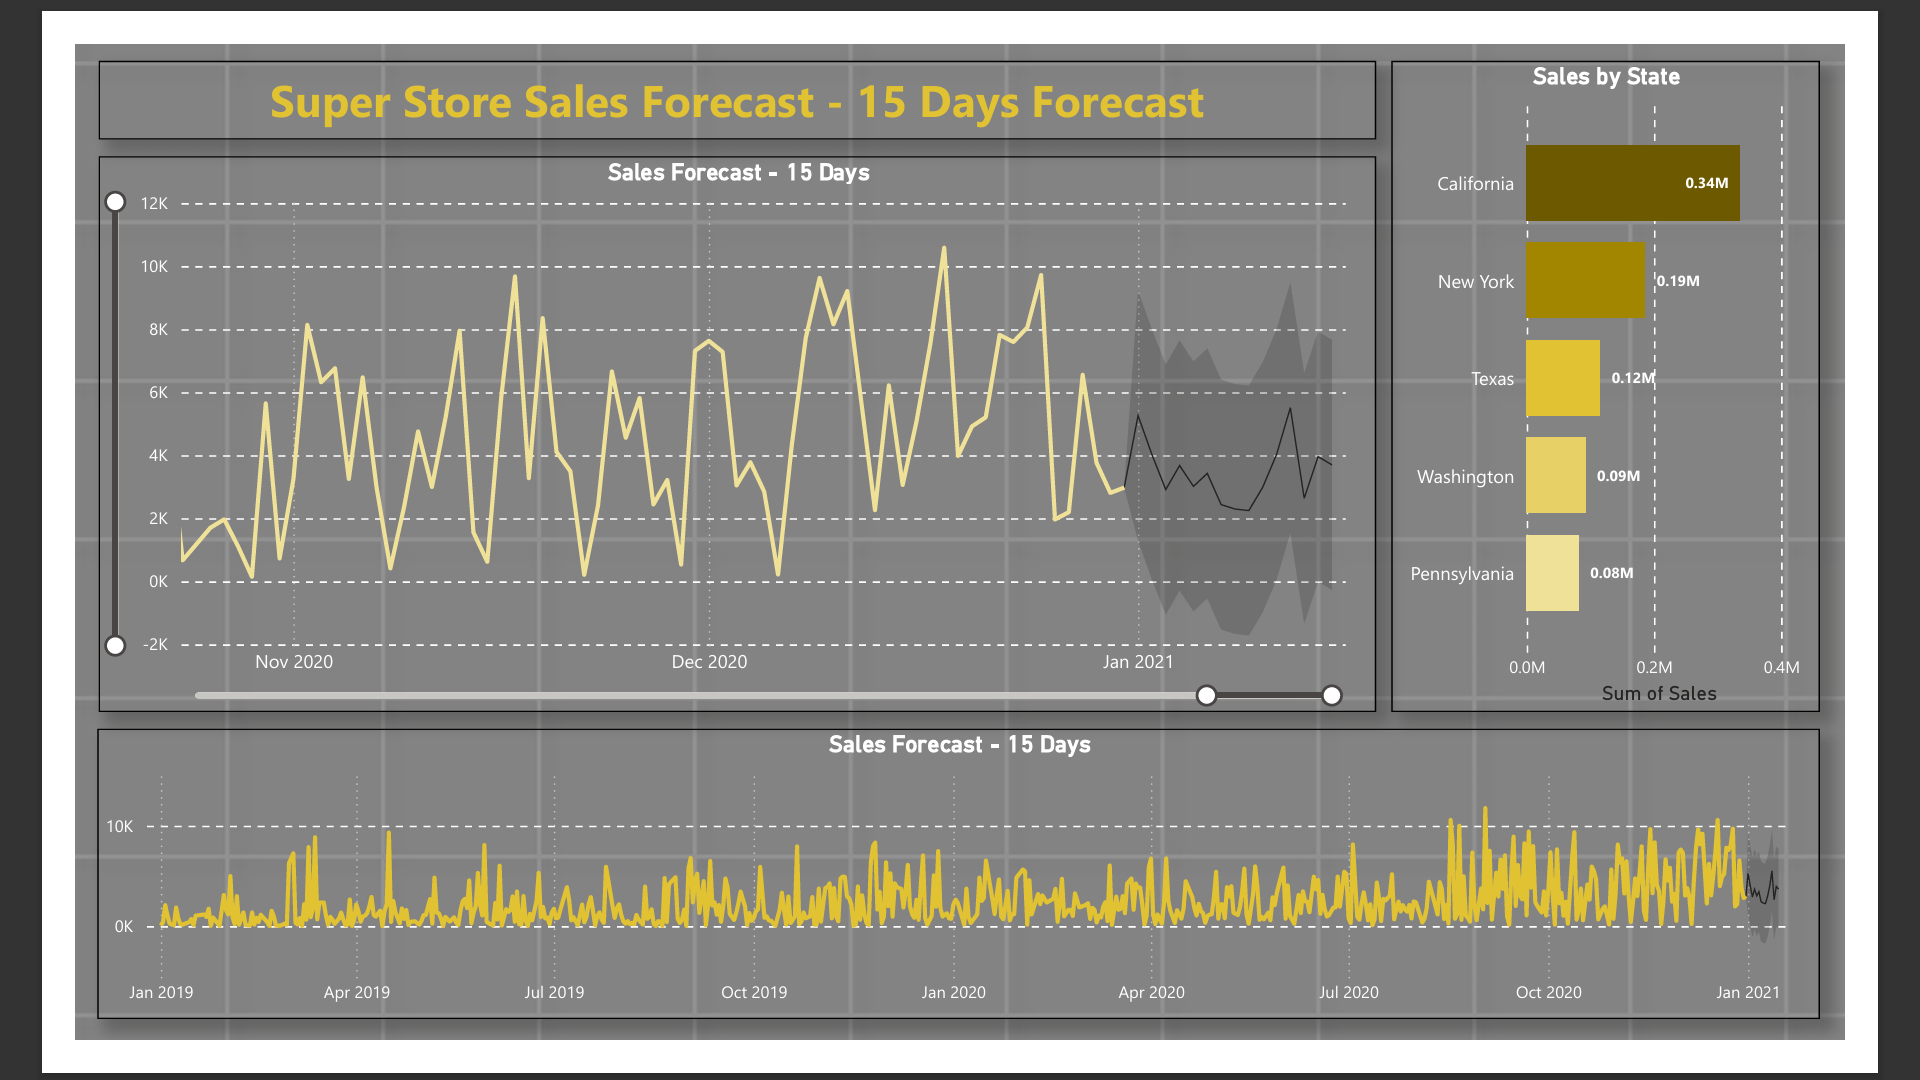

This screenshot's page, from the dashboard's own definition file:
{"tool":"powerbi","page":{"name":"Forecast","canvas":[1280,720],"ordinal":1},"visuals":[{"type":"lineChart","title":"Sales Forecast - 15 Days","fields":{"Category":["SuperStore Sales Dataset.Order Date"],"Y":["Sum(SuperStore Sales Dataset.Sales)"]},"box":[15.9,494.9,1246,209.8],"z":0},{"type":"lineChart","title":"Sales Forecast - 15 Days","fields":{"Category":["SuperStore Sales Dataset.Order Date"],"Y":["Sum(SuperStore Sales Dataset.Sales)"]},"box":[17.4,81,923.3,402.3],"z":1000},{"type":"clusteredBarChart","title":"Sales by State","fields":{"Category":["SuperStore Sales Dataset.State"],"Y":["Sum(SuperStore Sales Dataset.Sales)"]},"box":[952.3,11.6,309.7,471.8],"z":2000},{"type":"textbox","box":[17.4,11.6,923.3,57.9],"z":3000}]}

Visuals, with their boxes in screenshot pixels (x1, y1, x2, y2), scaled from the page's 1280x720 canvas onto the 1920x1080 screenshot:
"Sales Forecast - 15 Days" lineChart: rect(24, 742, 1893, 1057)
"Sales Forecast - 15 Days" lineChart: rect(26, 122, 1411, 725)
"Sales by State" clusteredBarChart: rect(1428, 17, 1893, 725)
textbox: rect(26, 17, 1411, 104)
